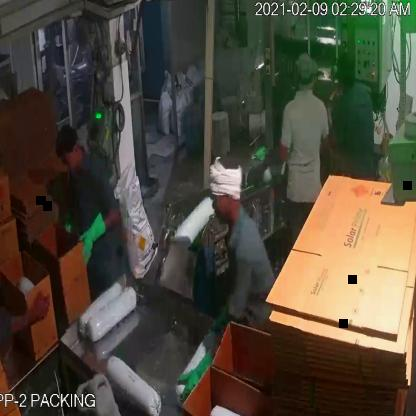glove: (169, 342, 218, 396), (80, 213, 114, 272)
no_glove: (0, 281, 56, 344), (247, 134, 289, 181)
